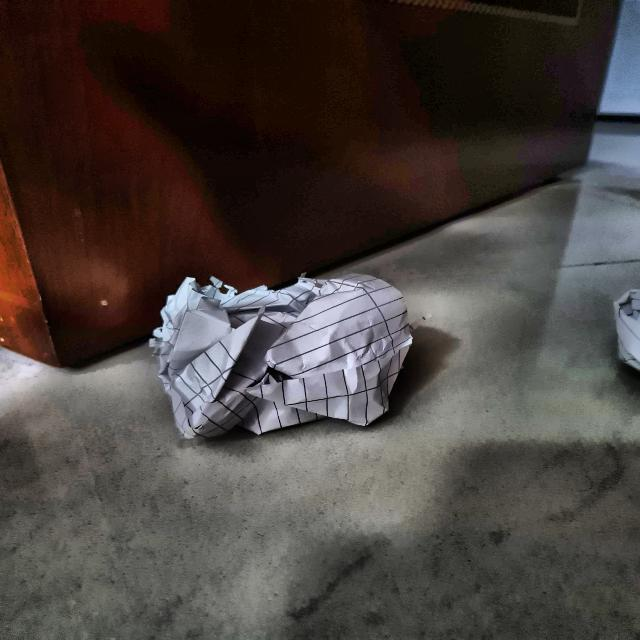Paper: (146, 274, 420, 438)
